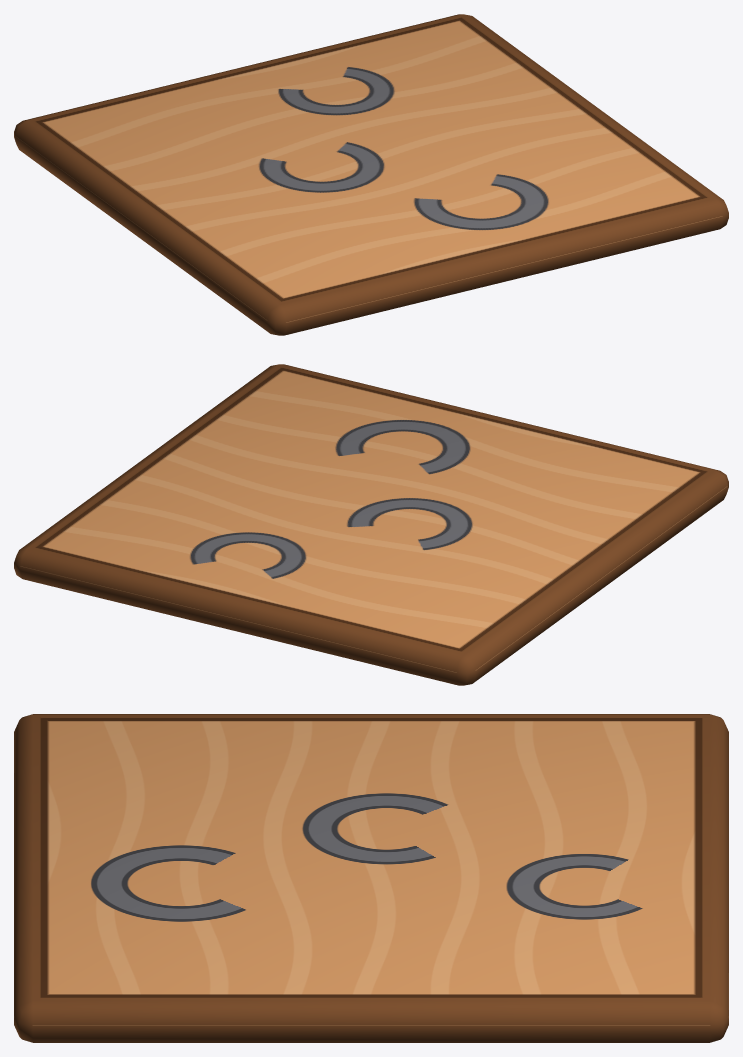
The model's file is HorseGate_Tile.fbx.
3 views of the same model, one above another, from view 1: azimuth 30°, elevation 25°; view 2: azimuth 150°, elevation 25°; view 3: azimuth 270°, elevation 25° (orthographic). The views are drawn at different scales.
Visible parts, largest first — view 1: HorseGate_Tile; view 2: HorseGate_Tile; view 3: HorseGate_Tile.
Boxes of the visible parts, x1,y1,x2,y2 form: HorseGate_Tile: [14, 14, 728, 335]; HorseGate_Tile: [14, 364, 728, 685]; HorseGate_Tile: [14, 714, 728, 1042].
Size of the model in its own units: 0.94 by 0.06 by 0.94.
1 material, 1 textured.
